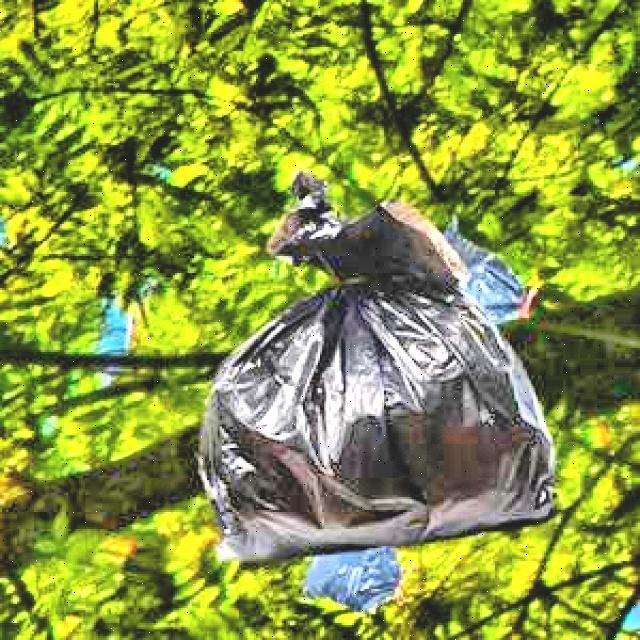Trashbag: (192, 187, 562, 569)
